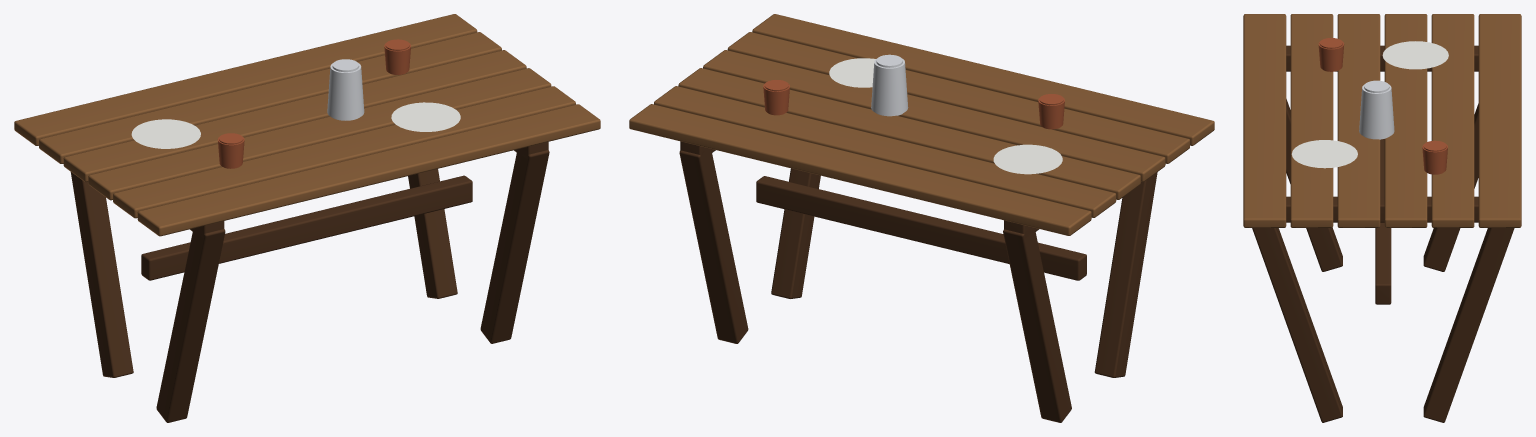
The model's file is garden_table.glb.
3 renders of one model, left to right at view 1: azimuth 30°, elevation 25°; view 2: azimuth 150°, elevation 25°; view 3: azimuth 270°, elevation 25°, orthographic. The views are drawn at different scales.
Parts seen in each view (by area): view 1: Body; view 2: Body; view 3: Body.
Boxes of the visible parts, x1,y1,x2,y2 form: Body: (14,14,600,422); Body: (629,14,1214,422); Body: (1243,14,1521,422).
Size of the model in its own units: 1.5 by 0.931 by 0.857.
